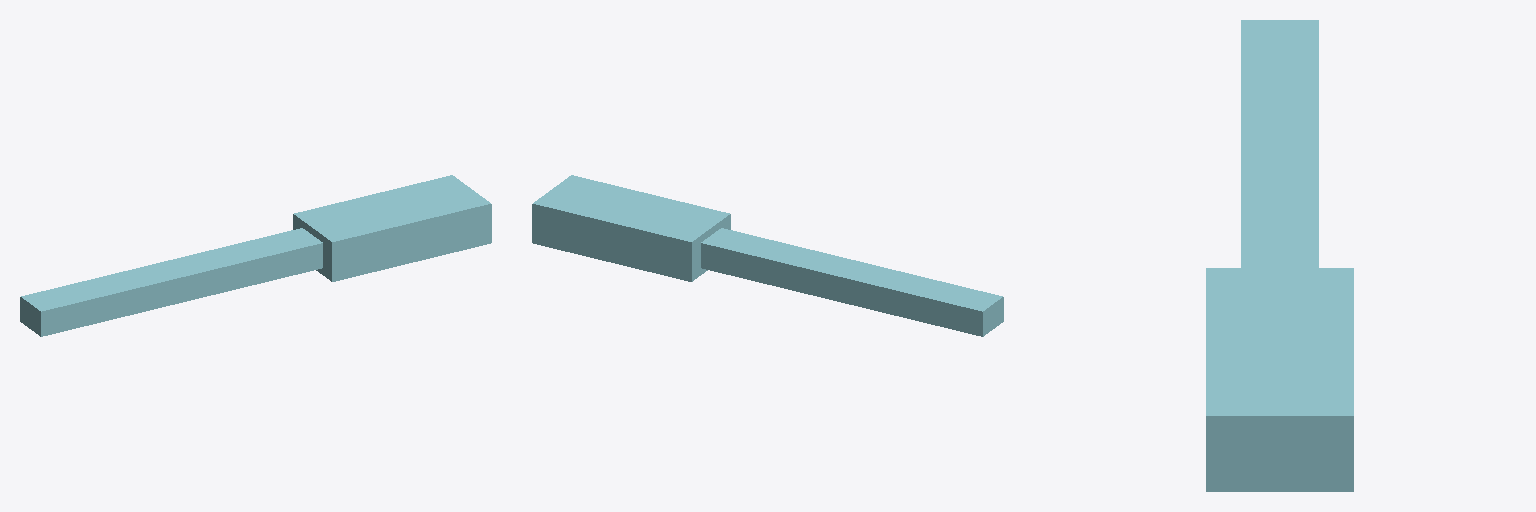
The robot description file, URDF, robot "cuboid_spatula_v5003":
<?xml version="1.0"?>
<robot name="cuboid_spatula_v5003">

  <link name="cuboid_spatula_v5003">
    <!-- Handle -->
    <visual>
      <origin xyz="0 0 0" rpy="0 0 0"/>
      <geometry>
        <box size="0.16109875470366283 0.02043286396772829 0.013824407035125837"/>
      </geometry>
      <material name="material">
        <color rgba="0.639 0.847 0.882 1.0"/>
      </material>
    </visual>
    <collision>
      <origin xyz="0 0 0" rpy="0 0 0"/>
      <geometry>
        <box size="0.16109875470366283 0.02043286396772829 0.013824407035125837"/>
      </geometry>
    </collision>

    <!-- Head -->
    <visual>
      <origin xyz="0.12598853282326627 0 0" rpy="0 0 0"/>
      <geometry>
        <box size="0.09087831094286972 0.03870514106787848 0.021766124968180166"/>
      </geometry>
      <material name="material">
        <color rgba="0.639 0.847 0.882 1.0"/>
      </material>
    </visual>
    <collision>
      <origin xyz="0.12598853282326627 0 0" rpy="0 0 0"/>
      <geometry>
        <box size="0.09087831094286972 0.03870514106787848 0.021766124968180166"/>
      </geometry>
    </collision>

    <inertial>
      <density value="400.0"/>
    </inertial>
  </link>

</robot>

--- Render facts (derived) ---
Views: 3 orthographic renders of the robot side by side, from view 1: azimuth 30°, elevation 25°; view 2: azimuth 150°, elevation 25°; view 3: azimuth 270°, elevation 25°.
Model cuboid_spatula_v5003 with 1 links and 0 joints (none), rooted at cuboid_spatula_v5003, posed every joint at zero.
Links seen in each view (by area): view 1: cuboid_spatula_v5003; view 2: cuboid_spatula_v5003; view 3: cuboid_spatula_v5003.
Link boxes in pixels (x1,y1,x2,y2): cuboid_spatula_v5003: (20, 175, 491, 336); cuboid_spatula_v5003: (532, 175, 1003, 336); cuboid_spatula_v5003: (1206, 20, 1353, 491).
Size in the robot's own frame: 0.252 by 0.0387 by 0.0218 metres.
Geometry: primitives only (box / cylinder / sphere), no mesh files.
